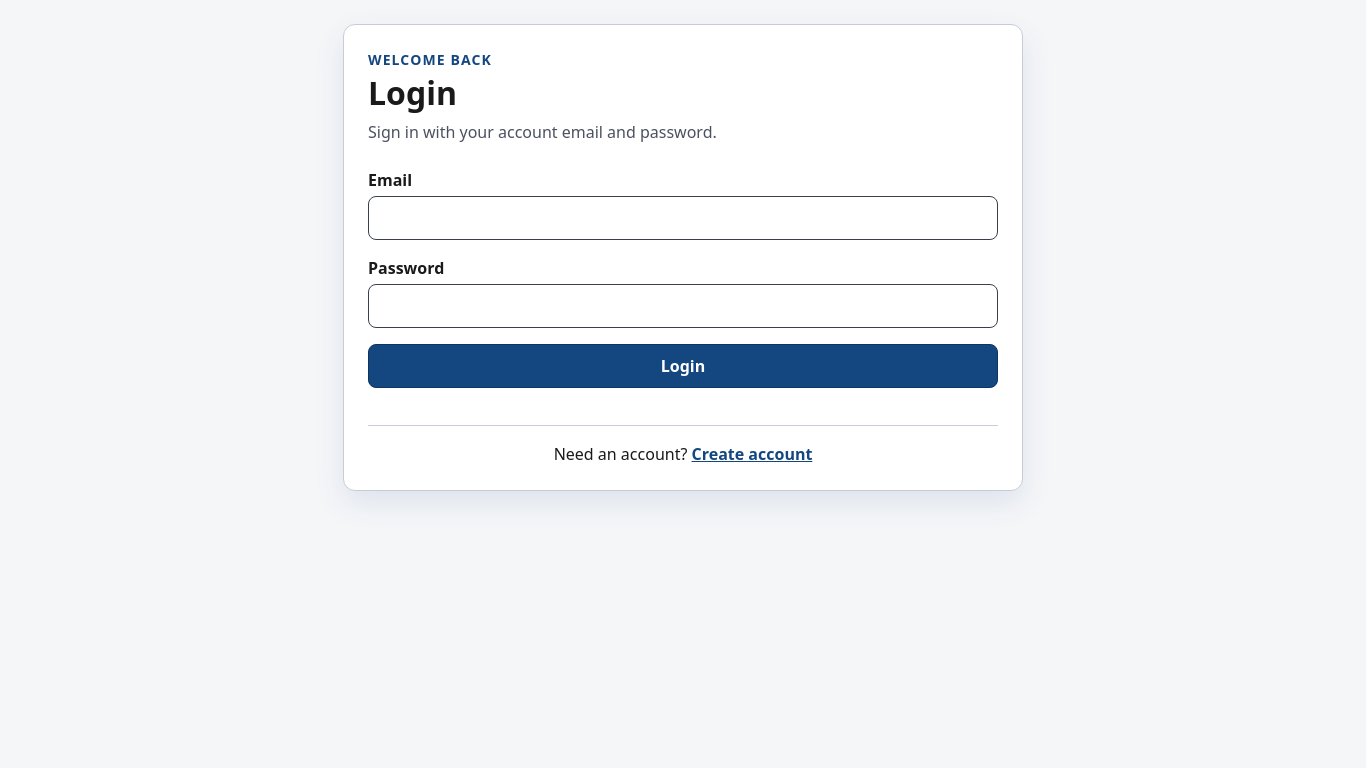
Test: authentication and role guards › restores an authorized intended destination after login
This screenshot has width=1366, height=768.
Type "admin@acme.example.test" into the field labelled "Email".
click(683, 218); type("admin@acme.example.test")  # box [368, 196, 998, 240]
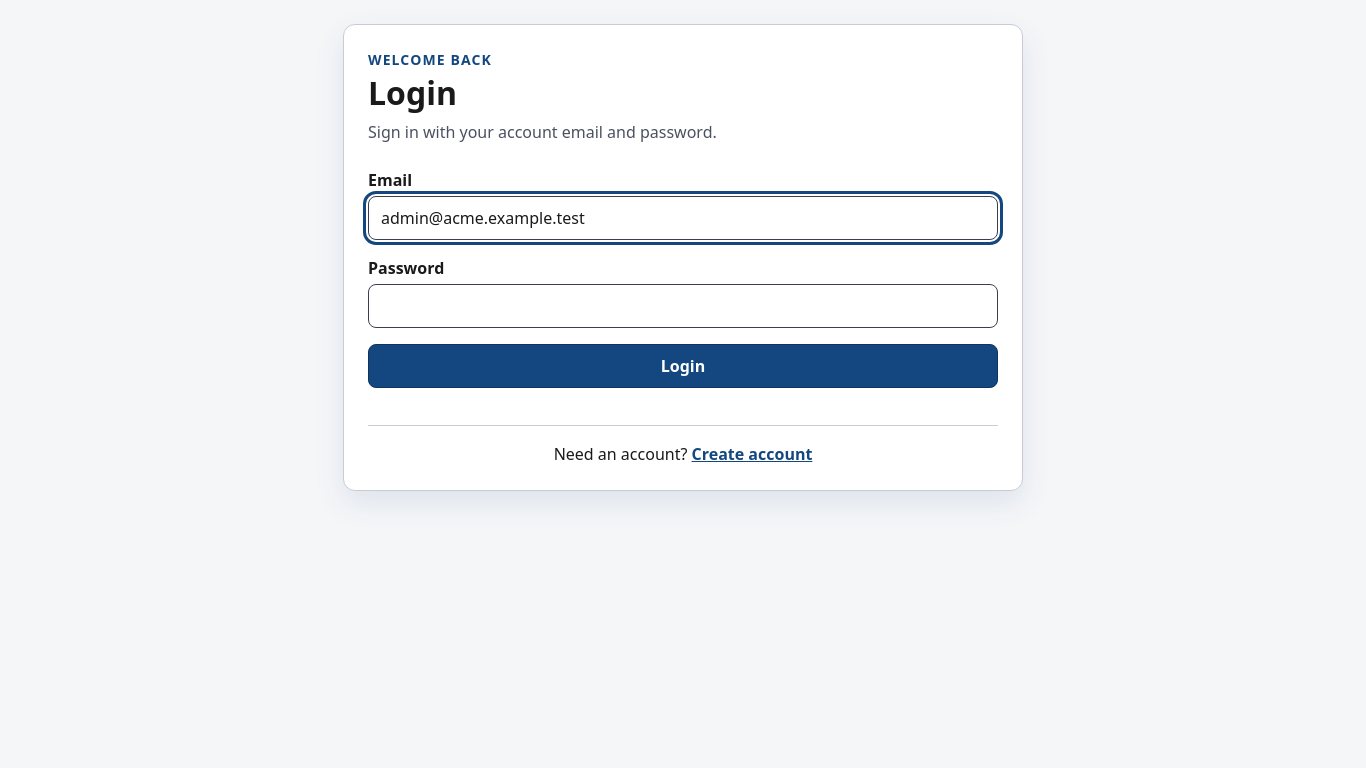
Type "demo-admin-password" into the password field labelled "Password".
click(683, 306); type("demo-admin-password")  # box [368, 284, 998, 328]
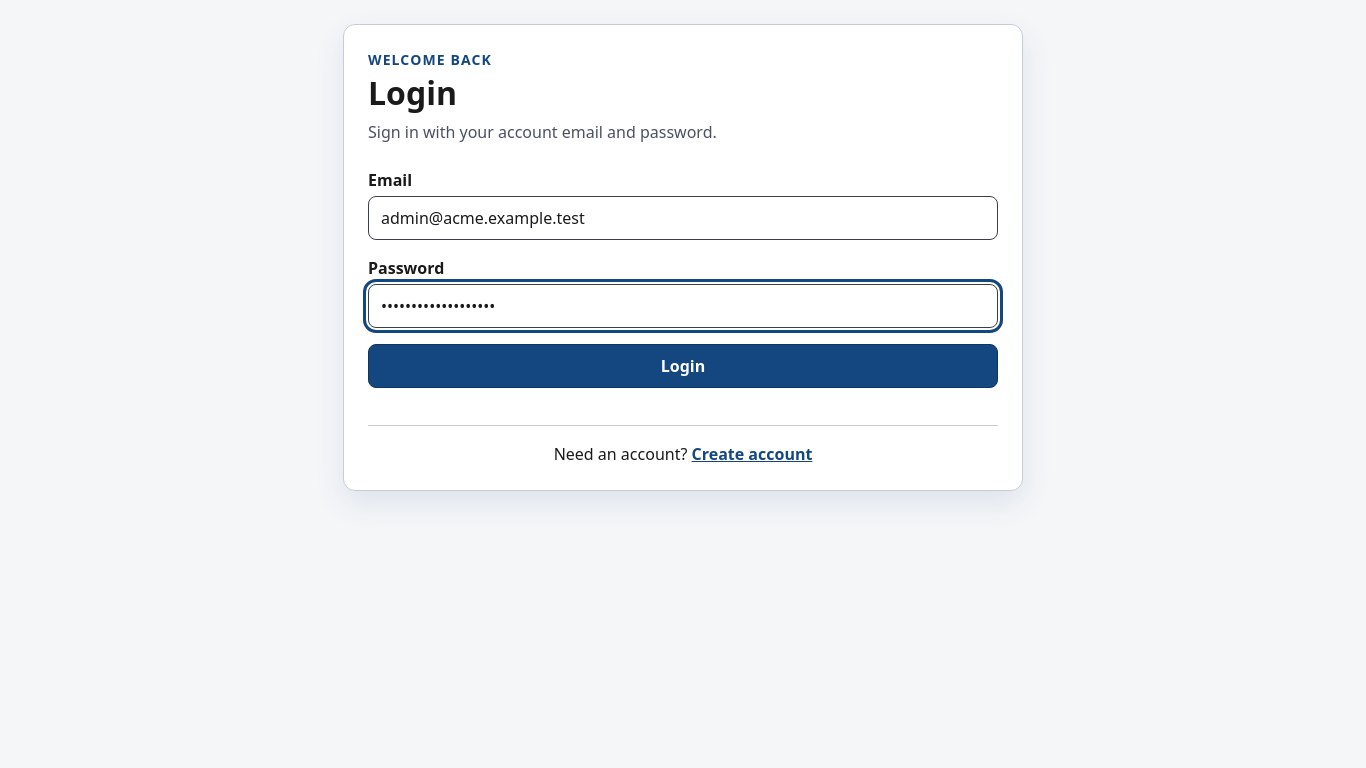
Click the button "Login".
click(683, 366)  # box [368, 344, 998, 388]
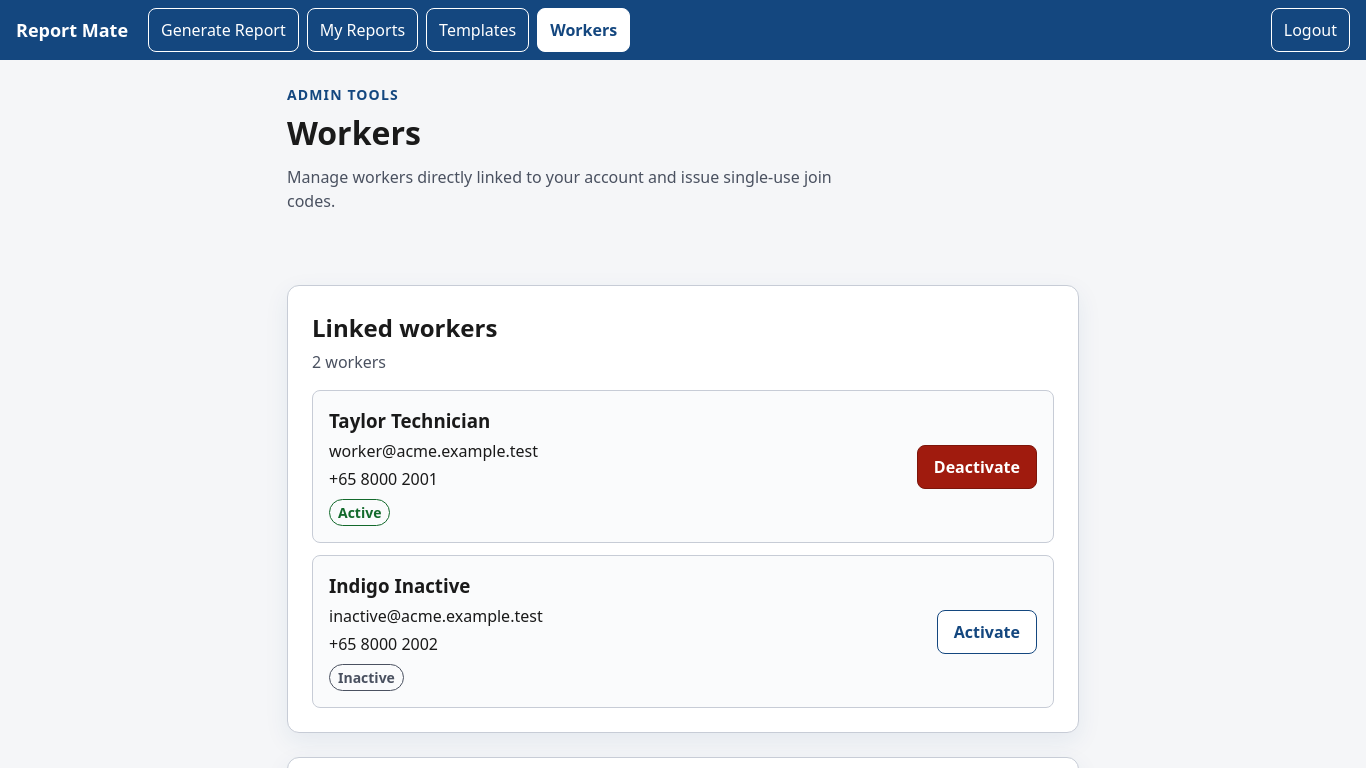
expect the heading "Workers" is shown: met, box [287, 111, 421, 154]
